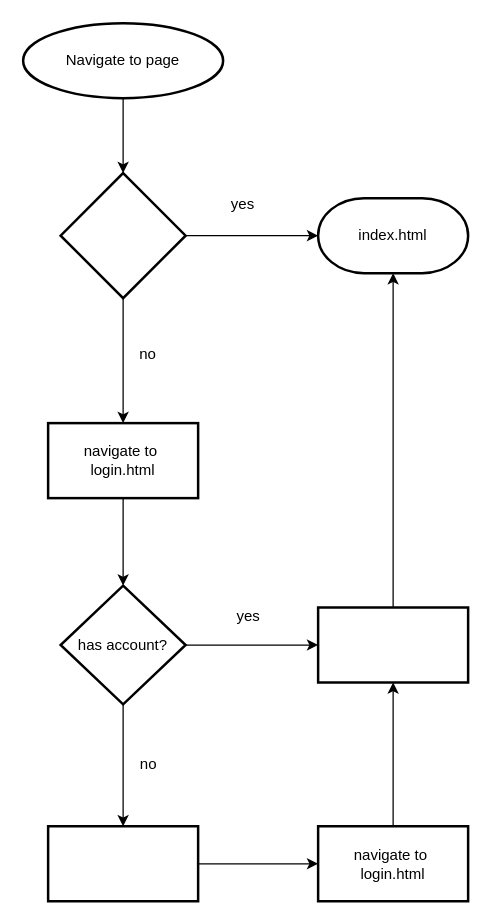
This 490x924 diagram has some shape labels left out. The shapes that lost their labels are listed below. From the top down, each one's centre as x and y in pixels, then its label:
At (122,235): "check log in status".
At (392,644): "login".
At (122,863): "navigate to account creation page and create account".
